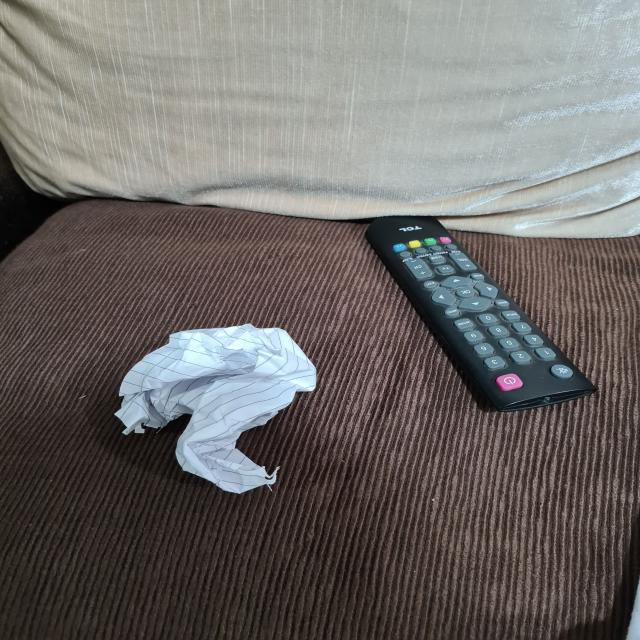Paper: (119, 325, 319, 495)
